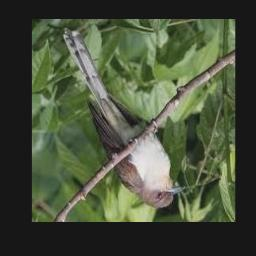Cuckoo: (63, 27, 184, 208)
